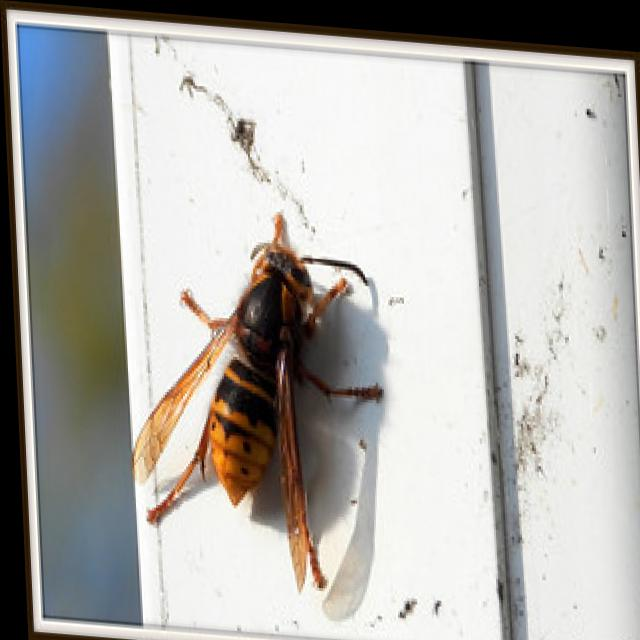Guepe: (116, 162, 406, 620)
